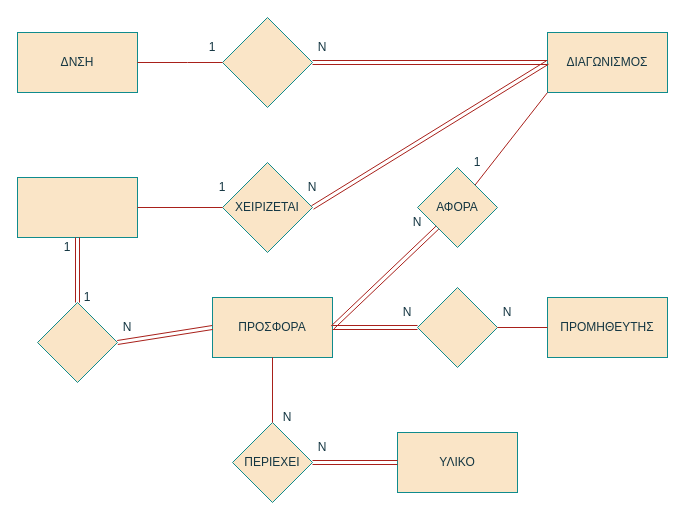
Some shapes in this 685 by 520 pixel diagram are drawn without their labels. Each missing label, with the centre of its shape:
ΑΞΙΟΛΟΓΕΙ: the point at 77,342
ΔΙΑΚΗΡΥΤΤΕΙ: the point at 267,62
ΤΜΗΜΑ: the point at 77,207
ΥΠΟΒΑΛΛΕΙ: the point at 457,327
